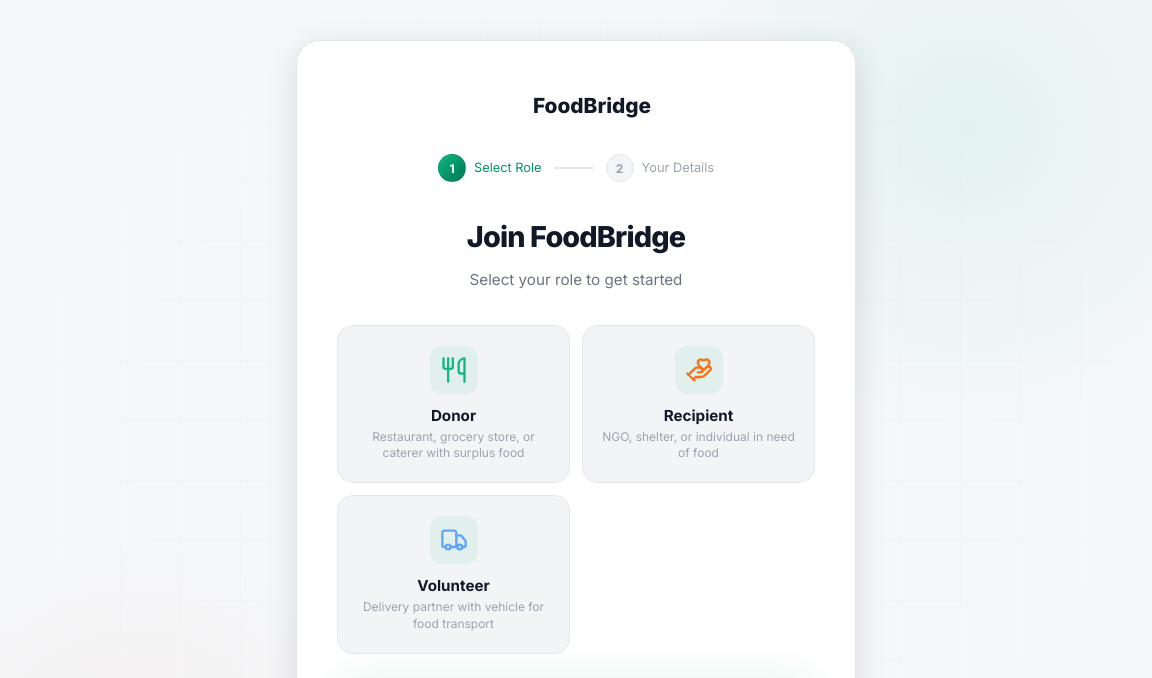
Test: Register page — Step 2 (form inputs) › renders first name, last name, email, phone and password fields
Click the button "Recipient NGO, shelter, or individual in need of food" at (698, 404), box x1=582 y1=325 x2=815 y2=483
(page scrolled)
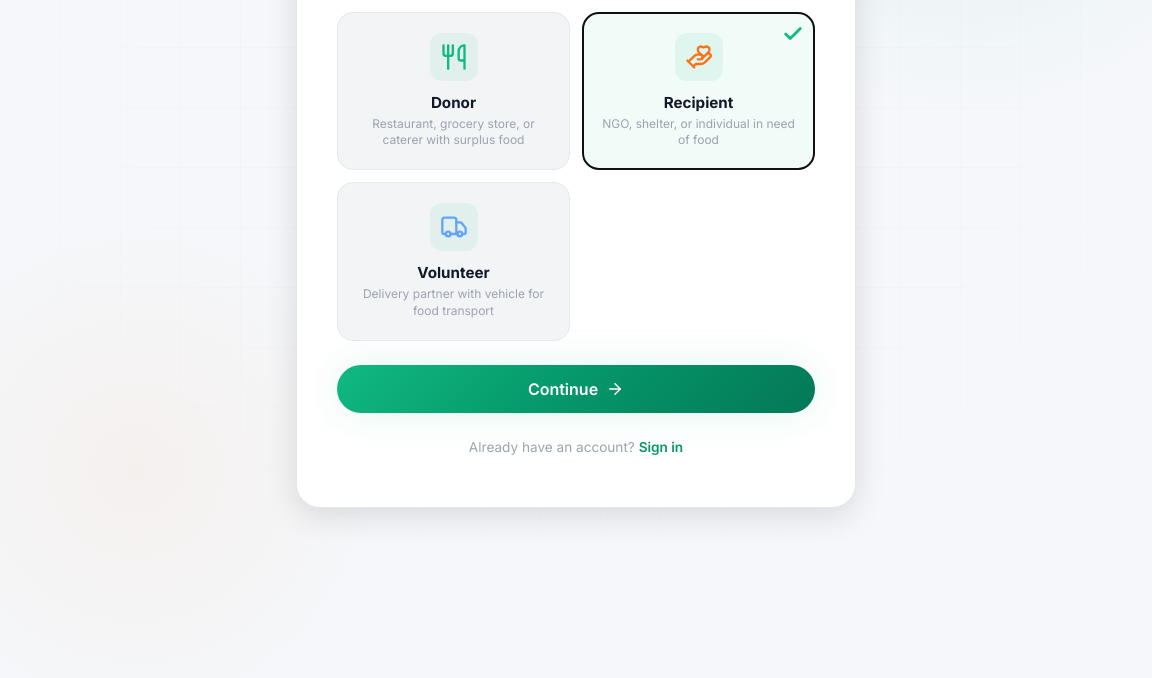
Click the button "Continue" at (576, 389), box x1=337 y1=365 x2=815 y2=413
(page scrolled)
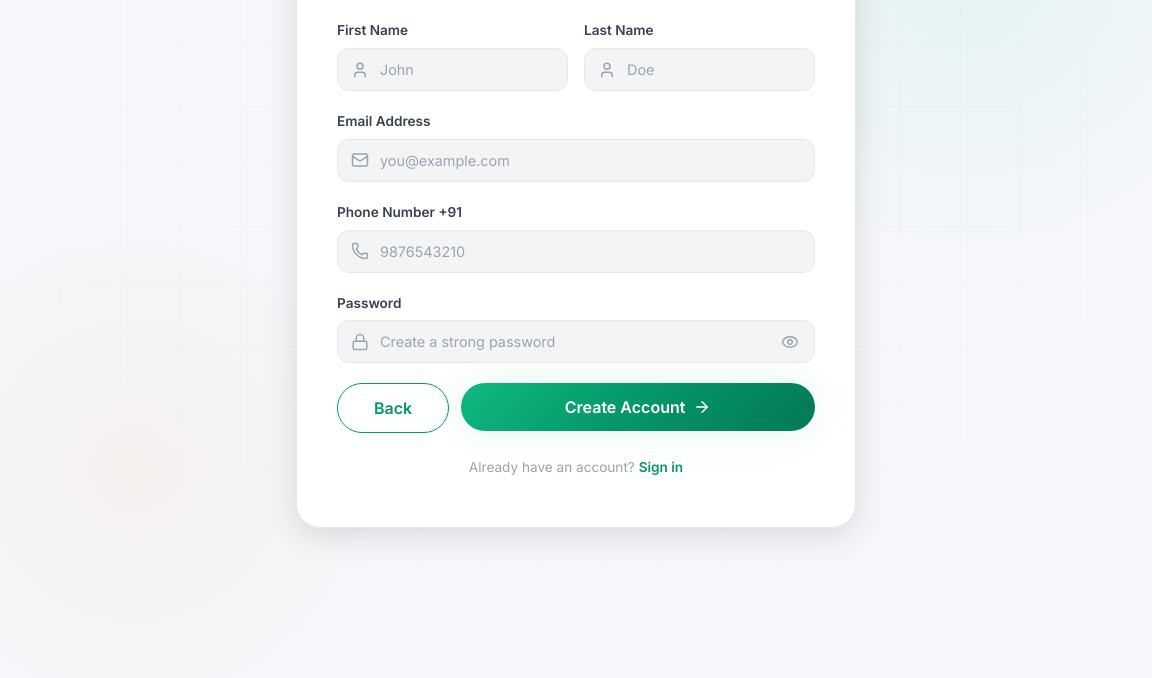
expect the field labelled "First Name" is shown: met, box x1=337 y1=48 x2=568 y2=91
expect the field labelled "Last Name" is shown: met, box x1=584 y1=48 x2=815 y2=91
expect the field labelled "Email Address" is shown: met, box x1=337 y1=139 x2=815 y2=182
